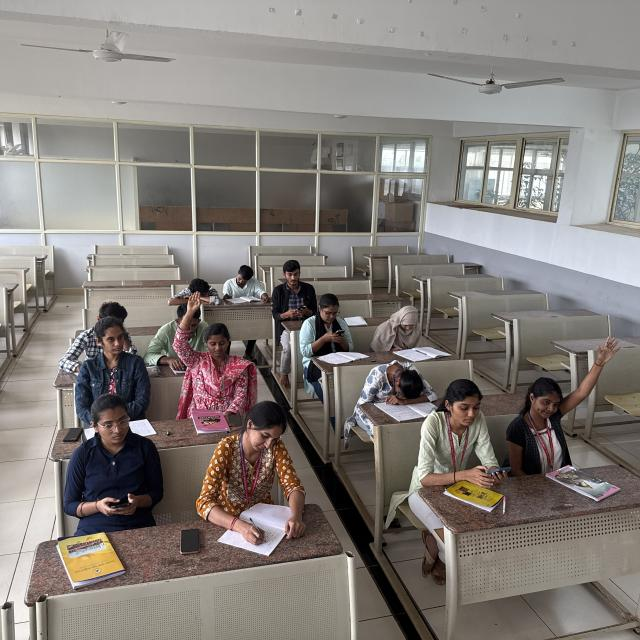Hand Rising: (500, 317, 631, 460), (173, 290, 262, 410)
Reading: (212, 255, 273, 317)
Sleeping: (358, 354, 438, 406), (143, 266, 226, 312)
Using Phone: (415, 384, 529, 486), (81, 391, 158, 524), (302, 282, 388, 369), (360, 296, 448, 348), (265, 263, 319, 325)
